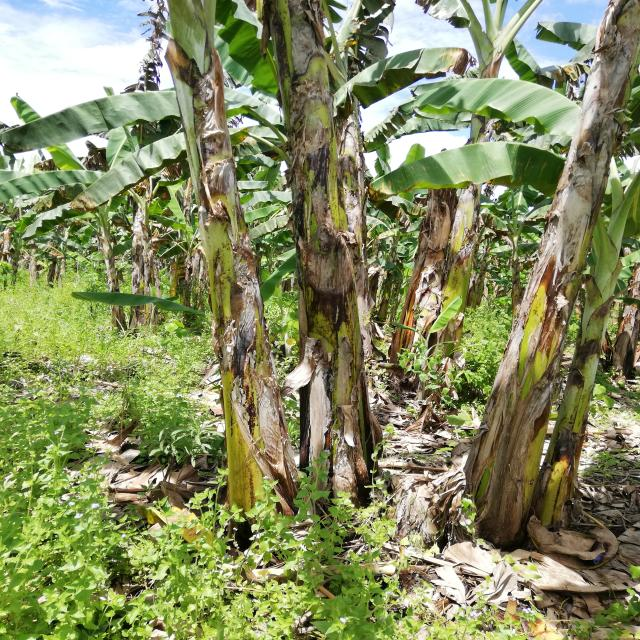Banana-plant: (443, 0, 640, 543), (255, 5, 402, 518), (158, 18, 292, 536), (394, 37, 513, 387)
